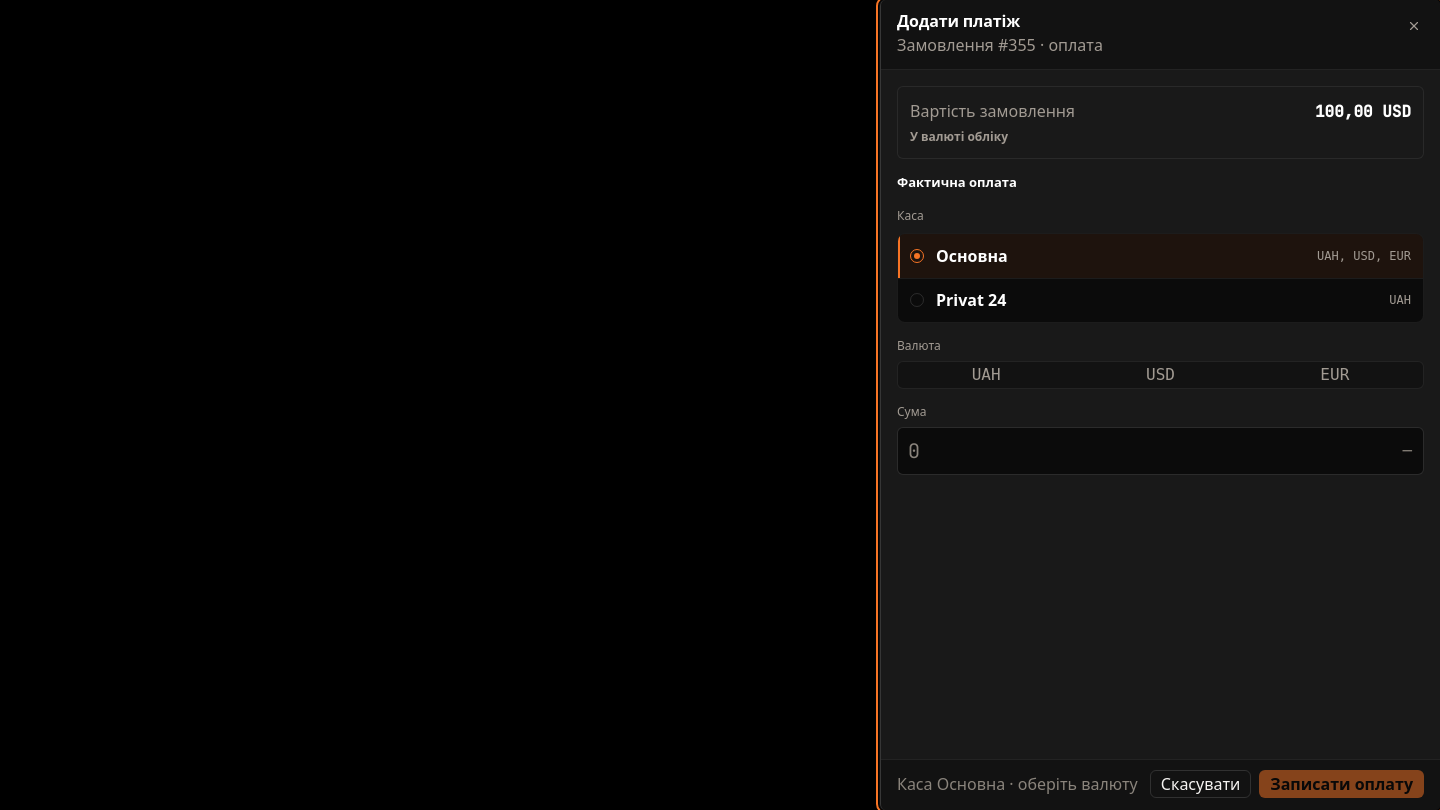
Test: refuses a third decimal before saving, as Core would
The image size is (1440, 810).
Expected: the radio button labelled "Основна UAH, USD, EUR" is shown, top-left (910, 249), bottom-right (924, 263)
Click the button with aria-label "UAH (Українська гривня)". click: (986, 375)
box: top-left (900, 364), bottom-right (1072, 386)
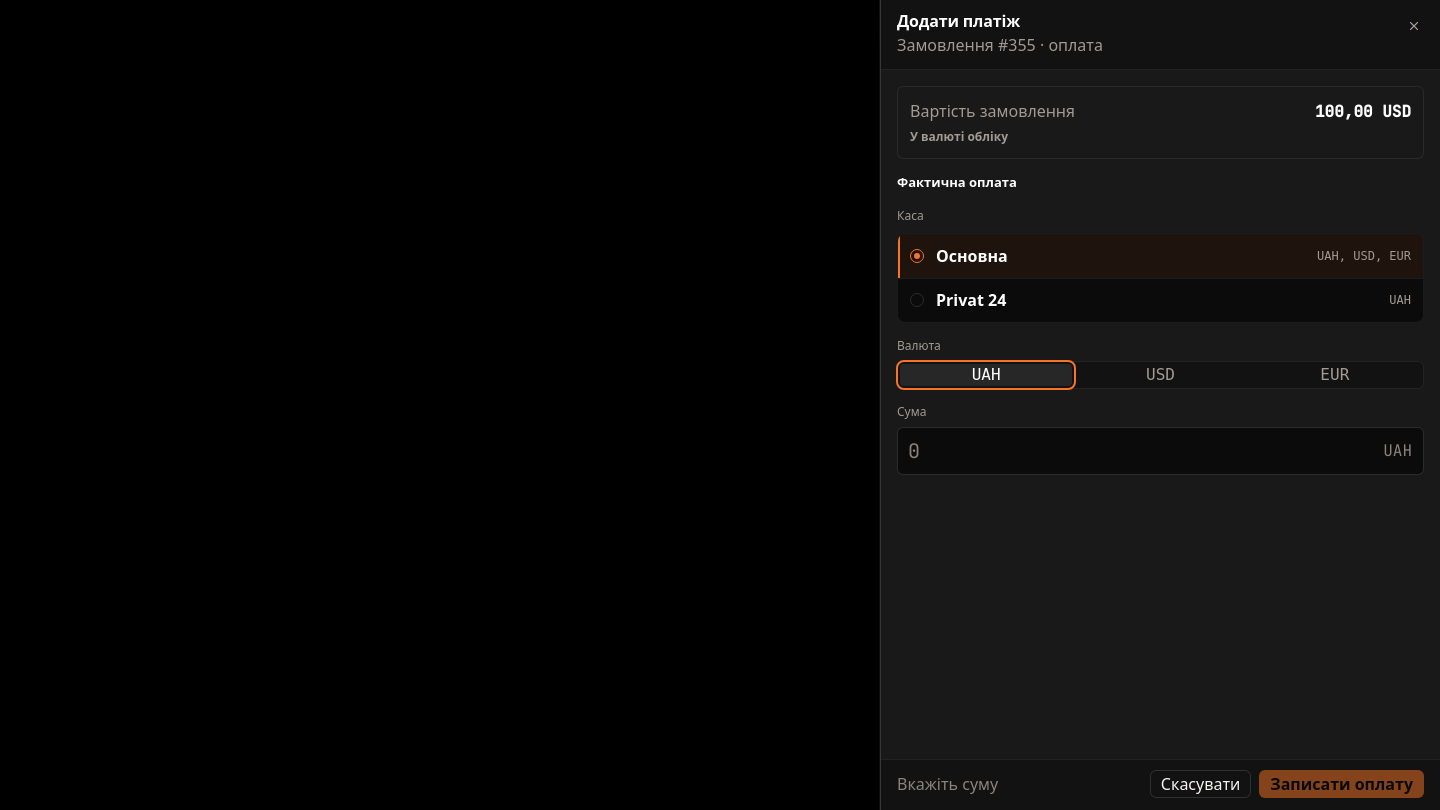
Type "10,555" into the field labelled "Сума". click: (1160, 451)
box: top-left (897, 427), bottom-right (1424, 475)
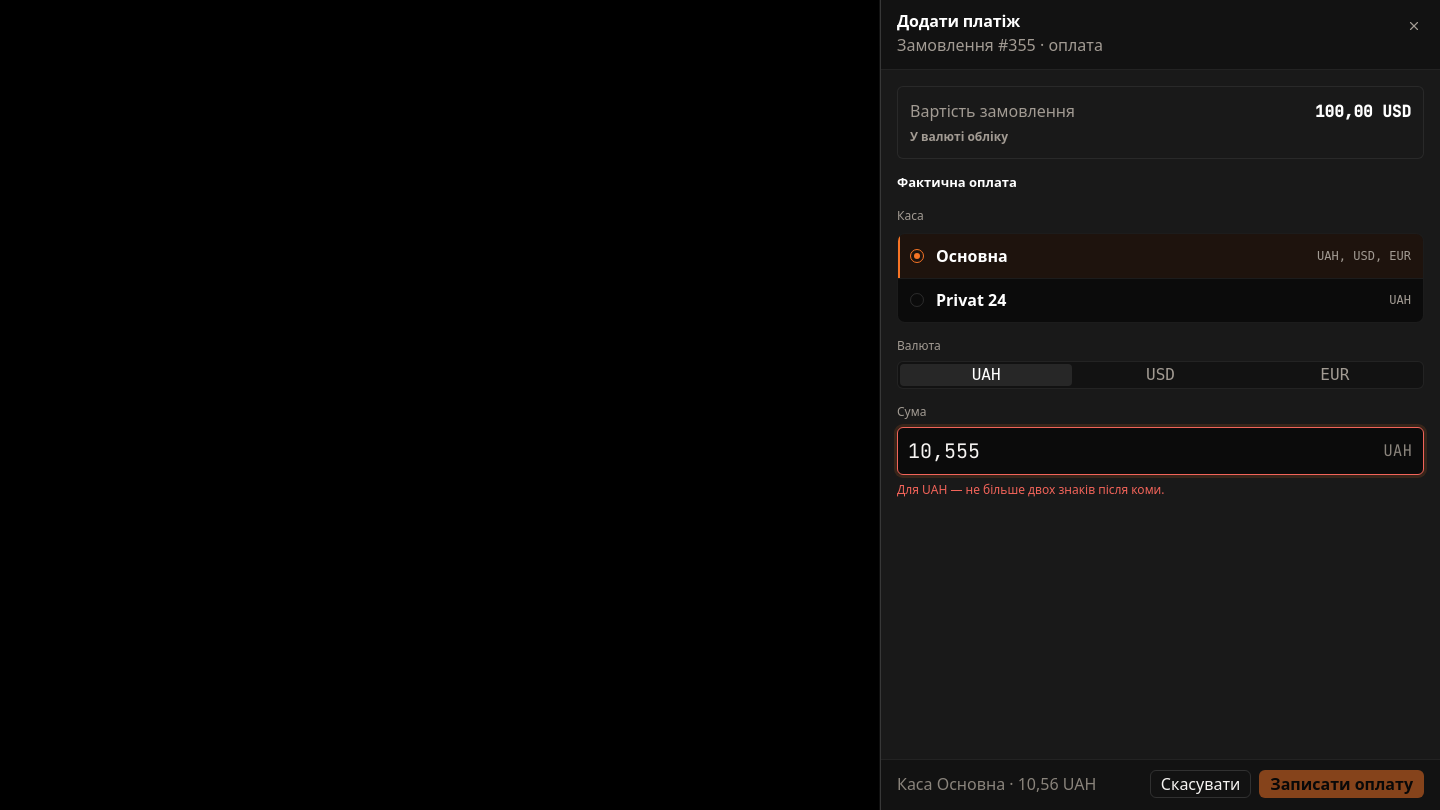
Expected: the button "Записати оплату" is disabled, top-left (1259, 770), bottom-right (1424, 798)
Expected: the text "Для UAH — не більше двох знаків після коми." is shown, top-left (897, 481), bottom-right (1164, 498)
